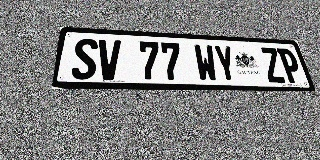7: (159, 42, 184, 81), (138, 41, 161, 81)
P: (276, 48, 304, 83)
S: (71, 38, 98, 80)
V: (97, 39, 121, 80)
W: (193, 44, 219, 82)
Y: (213, 45, 239, 82)
Z: (259, 47, 287, 83)
